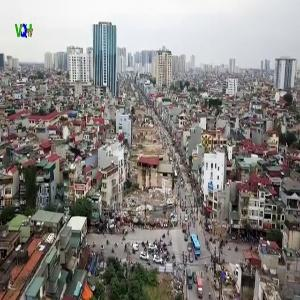drone: (51, 131, 97, 177)
